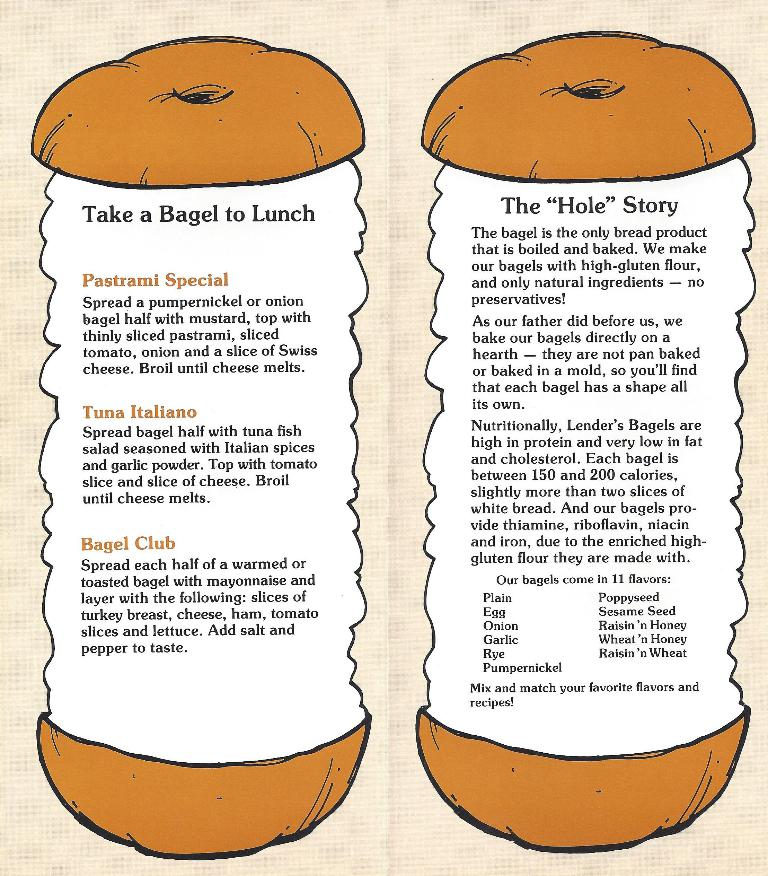sandwich: (30, 34, 375, 865), (411, 30, 758, 852)
